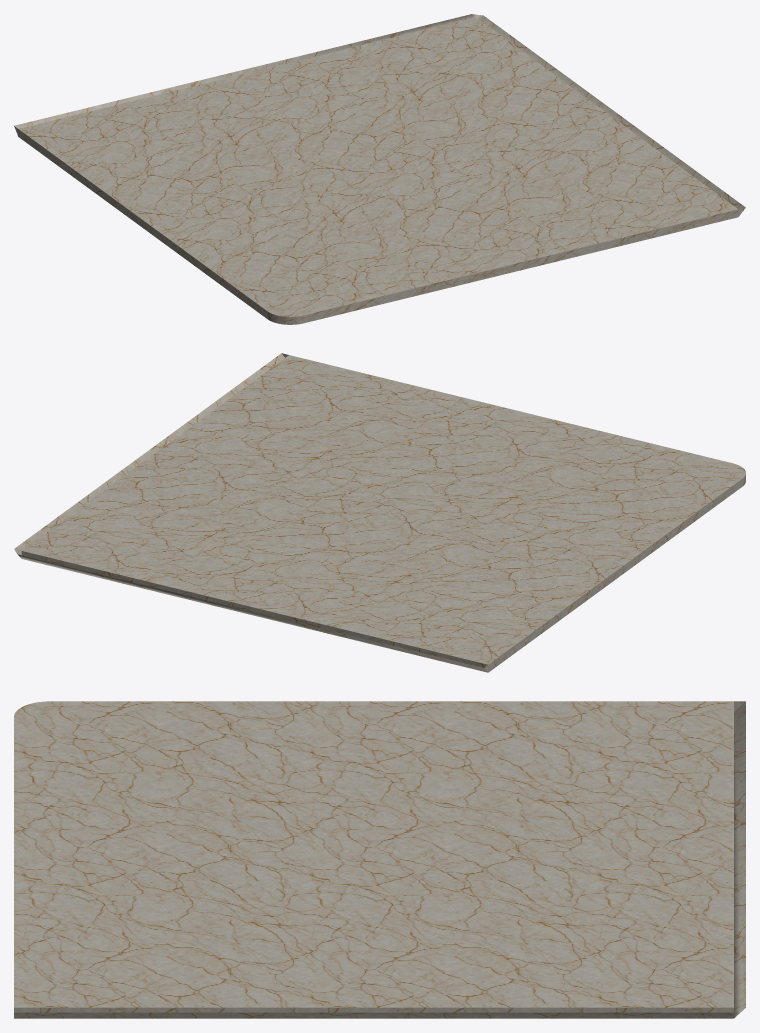
The model's file is Floor.glb.
The picture shows the model from 3 angles, top to bottom: view 1: azimuth 30°, elevation 25°; view 2: azimuth 150°, elevation 25°; view 3: azimuth 270°, elevation 25°; orthographic projection. The views are drawn at different scales.
Parts seen in each view (by area): view 1: Floor; view 2: Floor; view 3: Floor.
Part boxes in pixels (x1,y1,x2,y2): Floor: (14, 14, 745, 324); Floor: (14, 353, 745, 672); Floor: (14, 701, 745, 1018).
Bounding box in the file's own units: 3.06 × 0.0499 × 3.04.
Materials: 1 (1 with a texture image).
